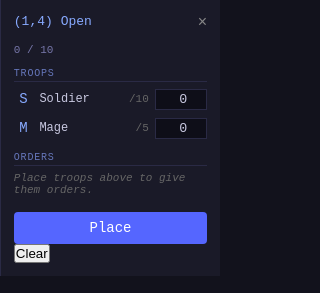
Deployment orders: the Orders section only appears once something is placed › shows the order control once any unit is placed
Replace the text in the number field with test id "count-Soldier" with "2": point(181, 99) [155,89,207,110]
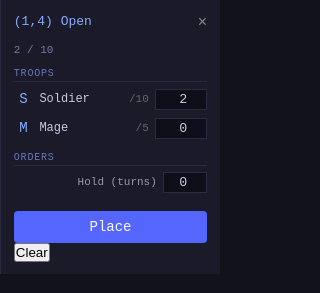
Result: the number field with test id "hold-turns" is shown at [163,172,207,193]
